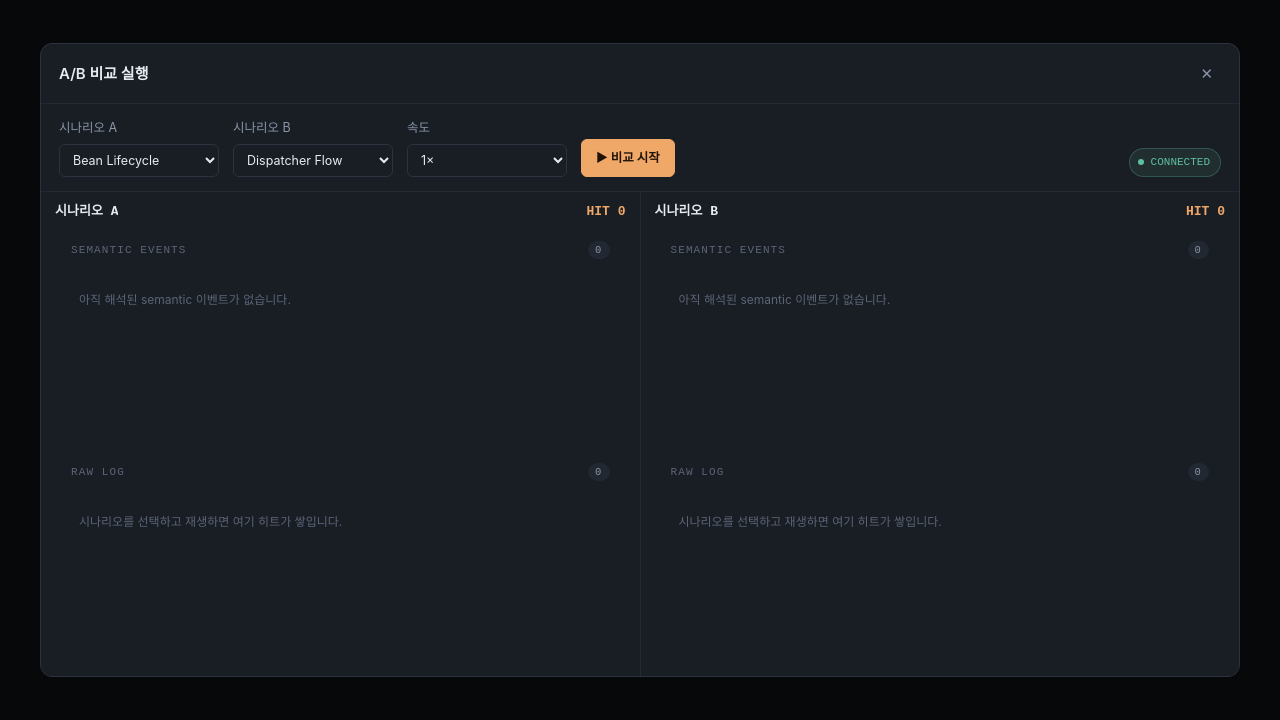
Test: ComparisonModal › starts a comparison at the default 1x speed and disables setup controls
expect the 1st dropdown shows "Bean Lifecycle": met, box [59,144,219,177]
Click the button "▶ 비교 시작" at (628, 158), box [581,140,675,177]
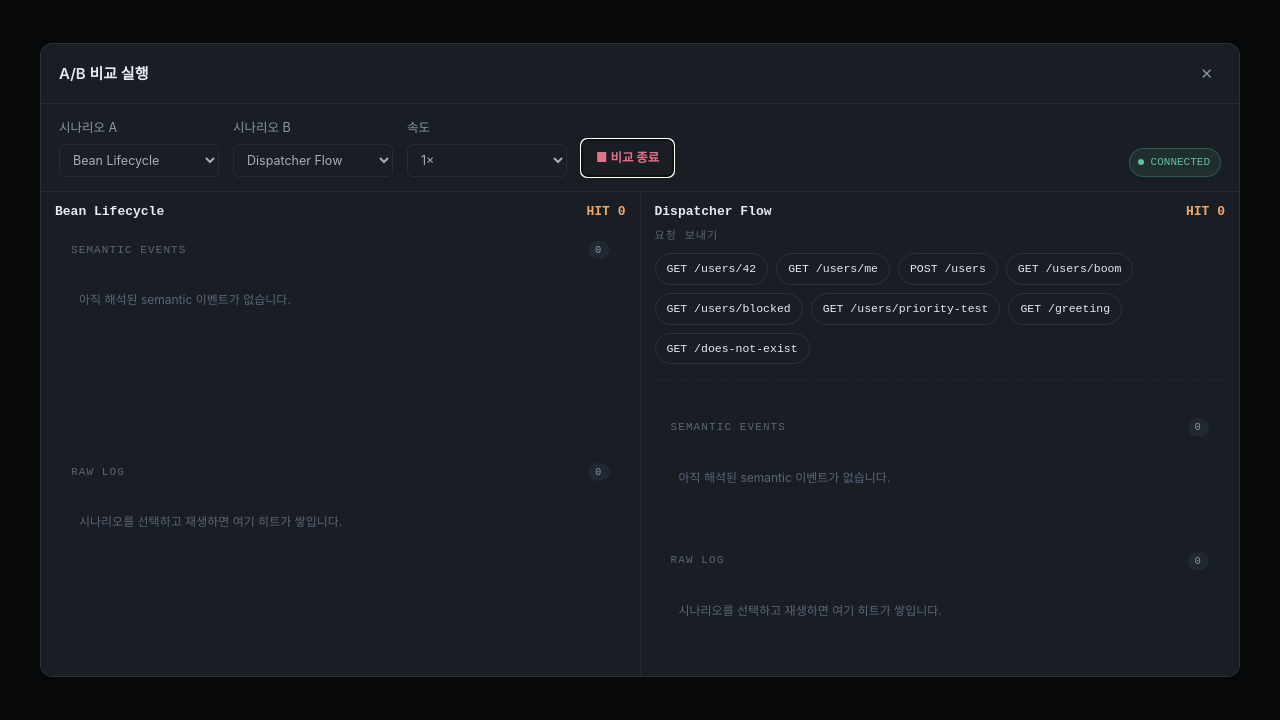
expect the button "■ 비교 종료" is shown: met, box [581,140,674,177]
expect the dropdown below "시나리오 A" is disabled: met, box [59,144,219,177]
expect the dropdown below "시나리오 B" is disabled: met, box [233,144,393,177]
